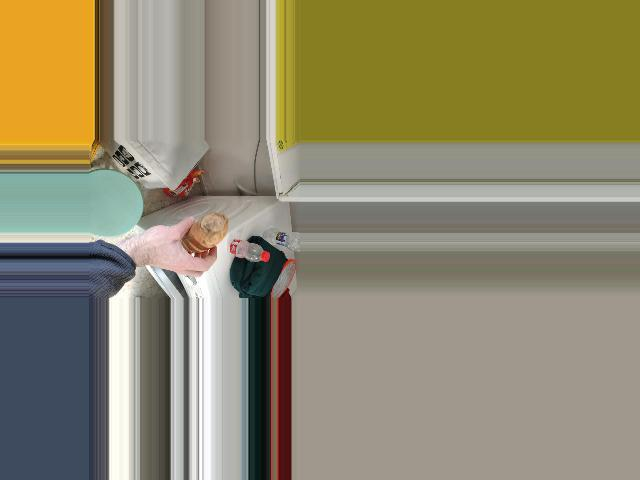sweet_potato: (181, 213, 229, 252)
